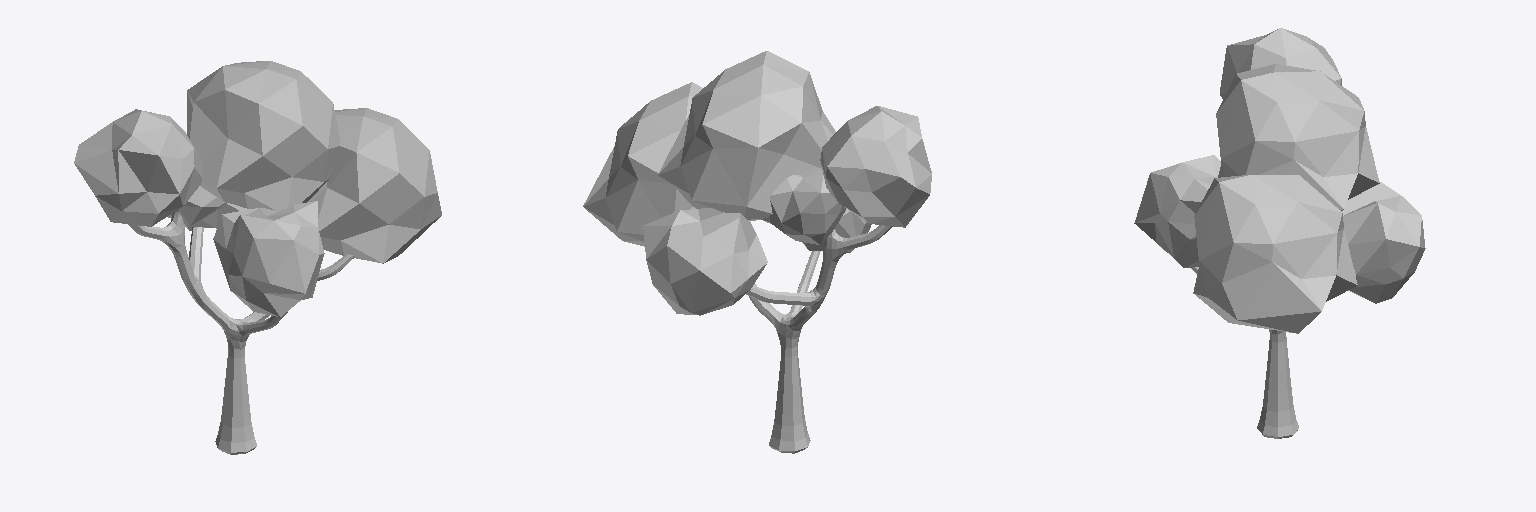
The model's file is forest_tree_01.obj.
3 views of the same model, side by side, from view 1: azimuth 30°, elevation 25°; view 2: azimuth 150°, elevation 25°; view 3: azimuth 270°, elevation 25° (orthographic).
Visible parts, largest first — view 1: tree; view 2: tree; view 3: tree.
Boxes of the visible parts, <box> form: tree: <box>74,61,441,454</box>; tree: <box>583,51,931,453</box>; tree: <box>1134,28,1425,438</box>.
Bounding box in the file's own units: 10.14 × 10.99 × 7.75.